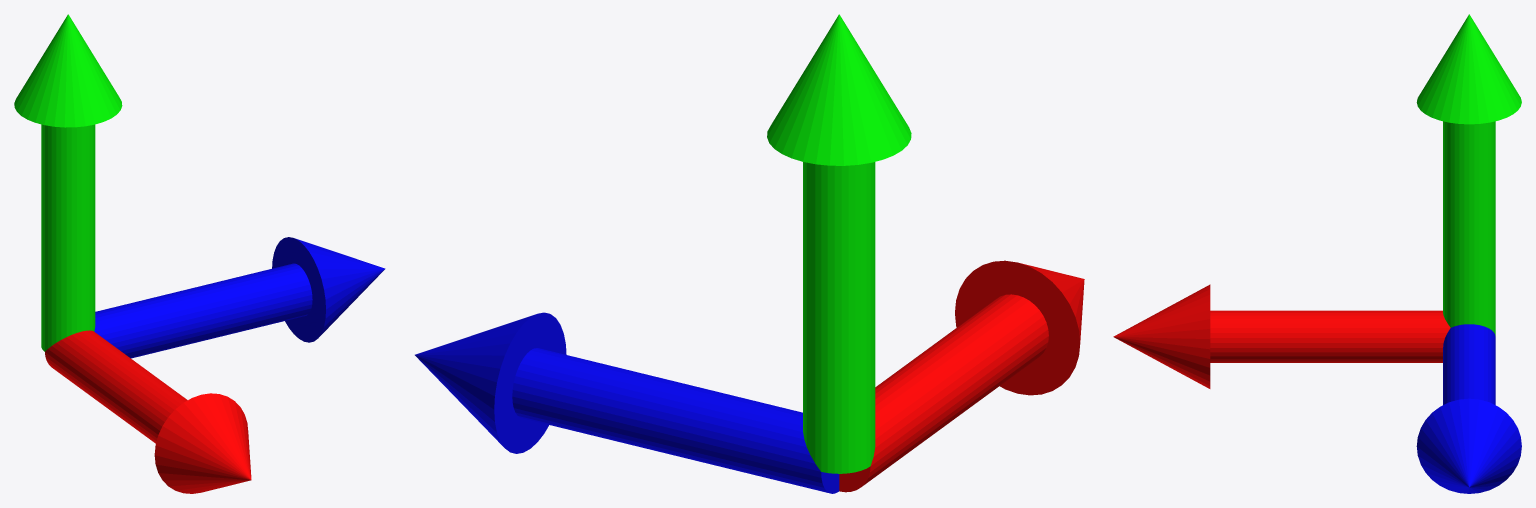
File: coordinate-frame-DdSVX8u8.gltf
The picture shows the model from 3 angles, left to right: view 1: azimuth 30°, elevation 25°; view 2: azimuth 150°, elevation 25°; view 3: azimuth 270°, elevation 25°; orthographic projection. The views are drawn at different scales.
Parts seen in each view (by area): view 1: Cylinder, Cylinder.002, Cone.002, Cylinder.001, Cone, Cone.001; view 2: Cylinder.002, Cylinder, Cylinder.001, Cone, Cone.001, Cone.002; view 3: Cylinder.001, Cylinder, Cone.001, Cone, Cone.002, Cylinder.002.
Boxes of the visible parts, bbox=[...] form: Cylinder: bbox=[41, 124, 95, 351]; Cylinder.002: bbox=[94, 263, 312, 358]; Cone.002: bbox=[154, 393, 251, 493]; Cylinder.001: bbox=[45, 330, 187, 443]; Cone: bbox=[14, 14, 122, 127]; Cone.001: bbox=[272, 237, 385, 342]; Cylinder.002: bbox=[512, 348, 839, 493]; Cylinder: bbox=[803, 162, 875, 473]; Cylinder.001: bbox=[839, 294, 1048, 492]; Cone: bbox=[767, 14, 911, 165]; Cone.001: bbox=[415, 312, 566, 453]; Cone.002: bbox=[955, 260, 1084, 395]; Cylinder.001: bbox=[1210, 310, 1450, 362]; Cylinder: bbox=[1443, 121, 1495, 335]; Cone.001: bbox=[1416, 398, 1521, 493]; Cone: bbox=[1416, 14, 1521, 124]; Cone.002: bbox=[1113, 284, 1210, 388]; Cylinder.002: bbox=[1443, 324, 1495, 404].
Size of the model in its own units: 1.56 by 1.55 by 1.55.
